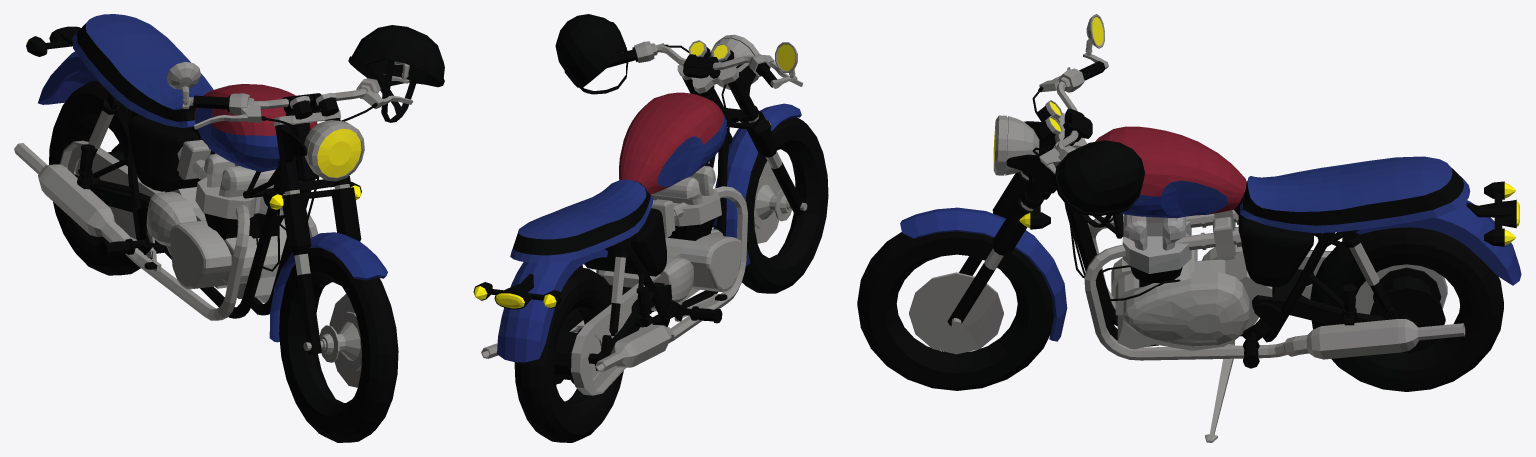
File: Bike.fbx
3 views of the same model, side by side, from view 1: azimuth 30°, elevation 25°; view 2: azimuth 150°, elevation 25°; view 3: azimuth 270°, elevation 25° (orthographic). The views are drawn at different scales.
Visible parts, largest first — view 1: SM_Bike_01.mo; view 2: SM_Bike_01.mo; view 3: SM_Bike_01.mo.
Boxes of the visible parts, x1=… form: SM_Bike_01.mo: x1=14, y1=14, x2=444, y2=442; SM_Bike_01.mo: x1=473, y1=14, x2=828, y2=442; SM_Bike_01.mo: x1=857, y1=14, x2=1521, y2=442.
Size of the model in its own units: 105 by 129 by 230.
